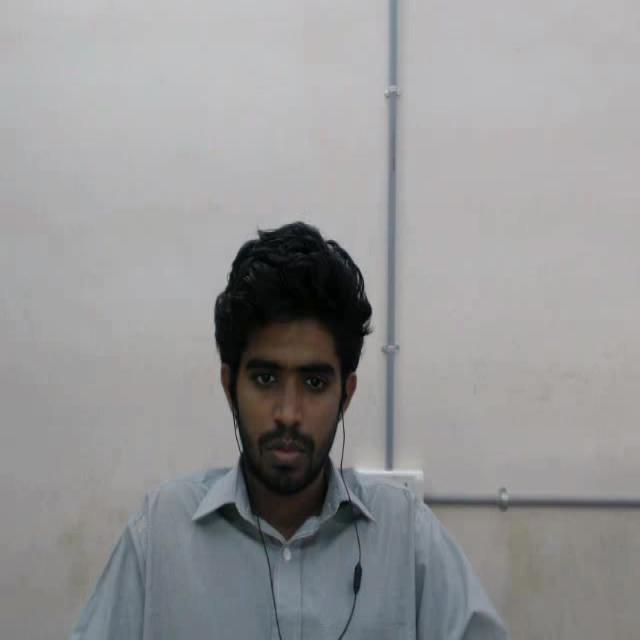Engaged: (194, 199, 386, 518)
